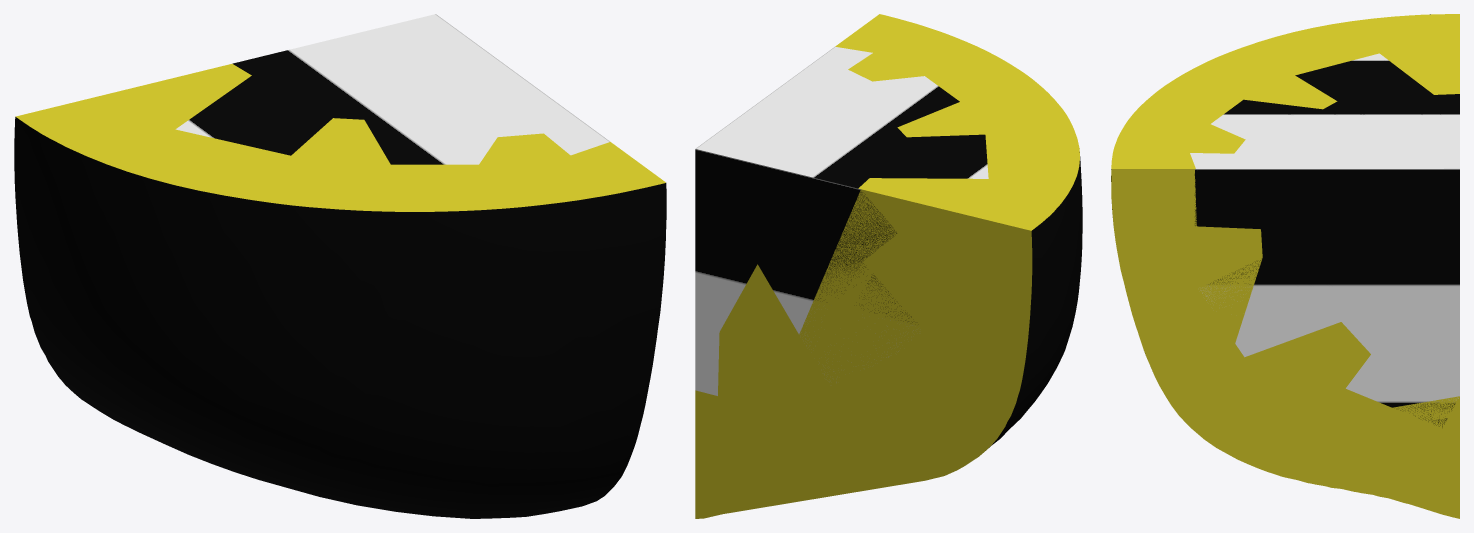
Rendered from SM_Apple_Behind_RB_8.fbx.
3 views of the same model, side by side, from view 1: azimuth 30°, elevation 25°; view 2: azimuth 150°, elevation 25°; view 3: azimuth 270°, elevation 25° (orthographic). The views are drawn at different scales.
Visible parts, largest first — view 1: apple crater.010; view 2: apple crater.010; view 3: apple crater.010.
Part boxes in pixels (box(x1,y1,x2,y2)): apple crater.010: box(14, 14, 666, 518); apple crater.010: box(695, 14, 1082, 518); apple crater.010: box(1111, 14, 1459, 518).
Bounding box in the file's own units: 110 × 115 × 104.
